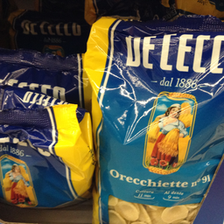pasta: (86, 15, 224, 224), (1, 83, 94, 208)
